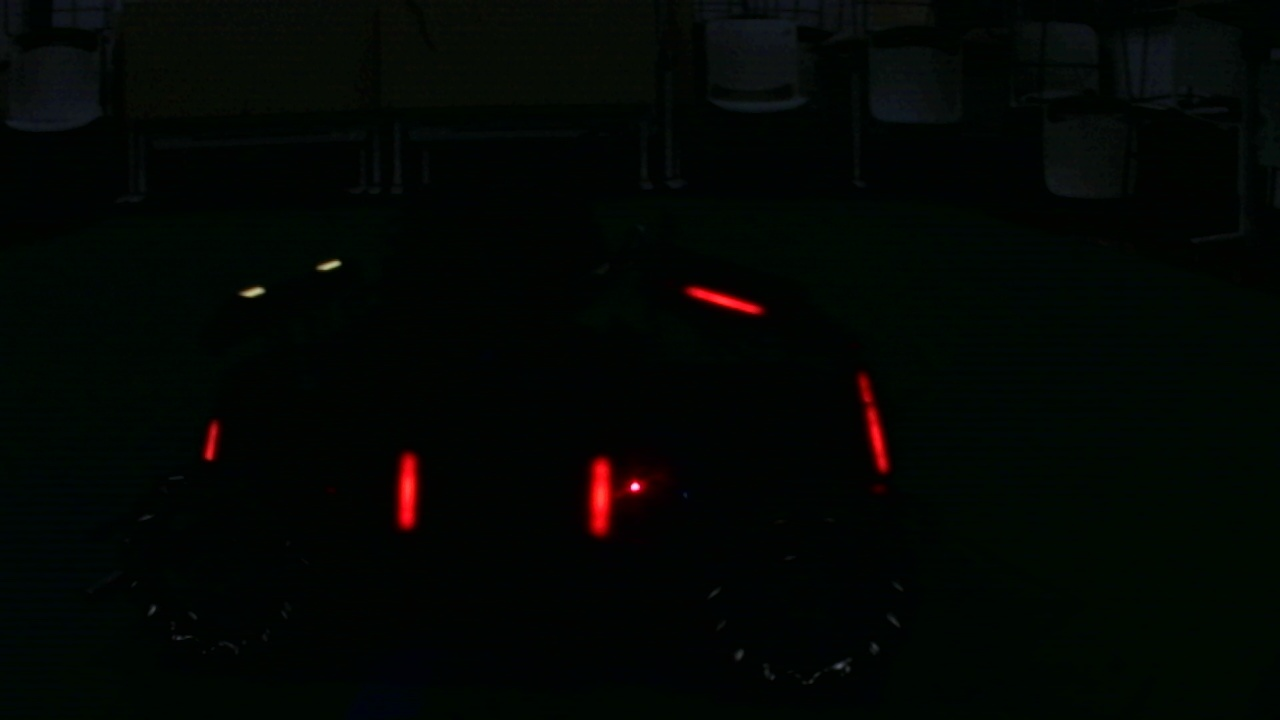lamp: (585, 450, 614, 542), (389, 446, 422, 526), (203, 411, 222, 464)
notpair1: (204, 413, 423, 526)
pair1: (393, 450, 612, 550)
